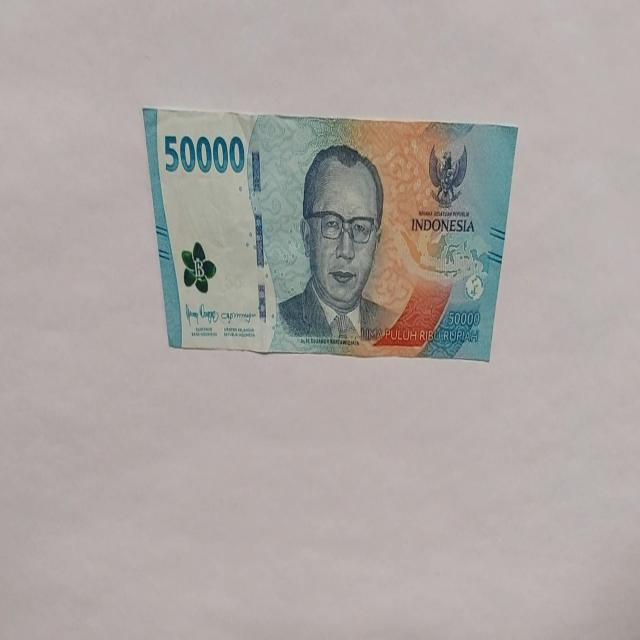lima puluh ribu rupiah: (141, 105, 519, 362), (275, 142, 399, 347)
